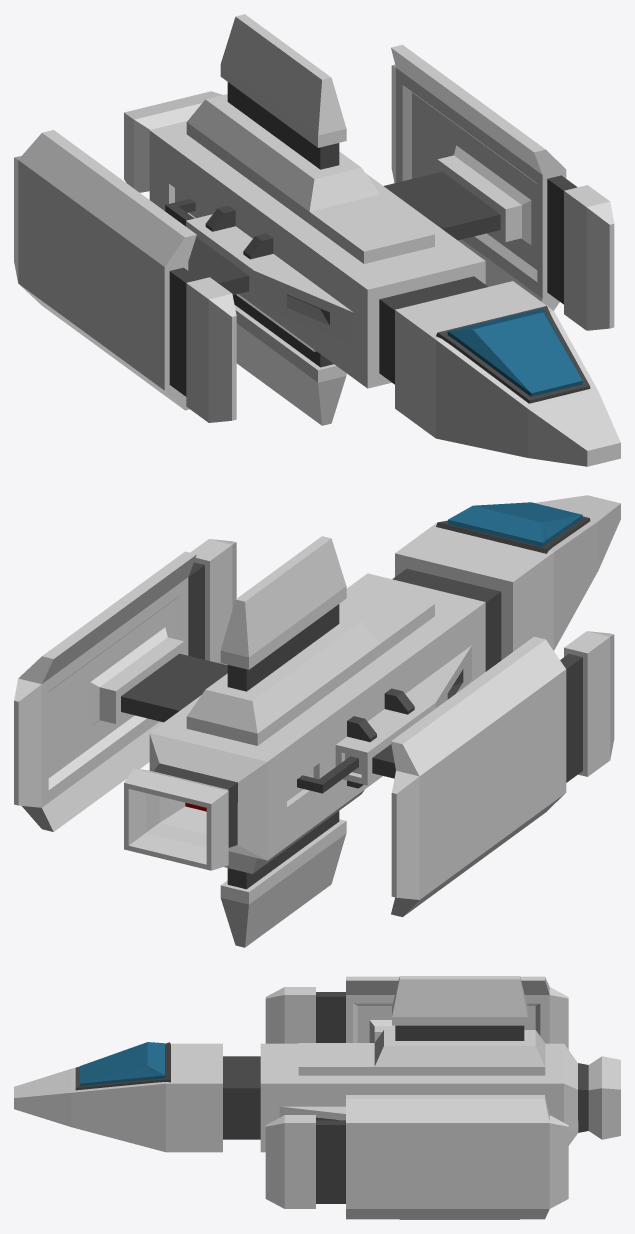
File: spaceship_1.fbx
3 views of the same model, one above another, from view 1: azimuth 30°, elevation 25°; view 2: azimuth 150°, elevation 25°; view 3: azimuth 270°, elevation 25° (orthographic). The views are drawn at different scales.
Parts seen in each view (by area): view 1: Fighter_1; view 2: Fighter_1; view 3: Fighter_1.
Part boxes in pixels (left/top/right/bottom): Fighter_1: left=14, top=14, right=620, bottom=466; Fighter_1: left=14, top=495, right=620, bottom=947; Fighter_1: left=14, top=976, right=620, bottom=1219.
Size of the model in its own units: 34 by 28 by 64.04.
